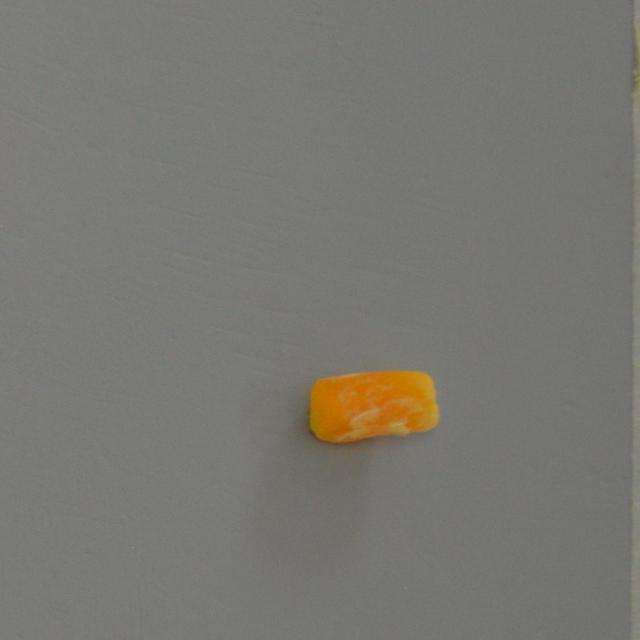pelicula: (306, 366, 438, 442)
